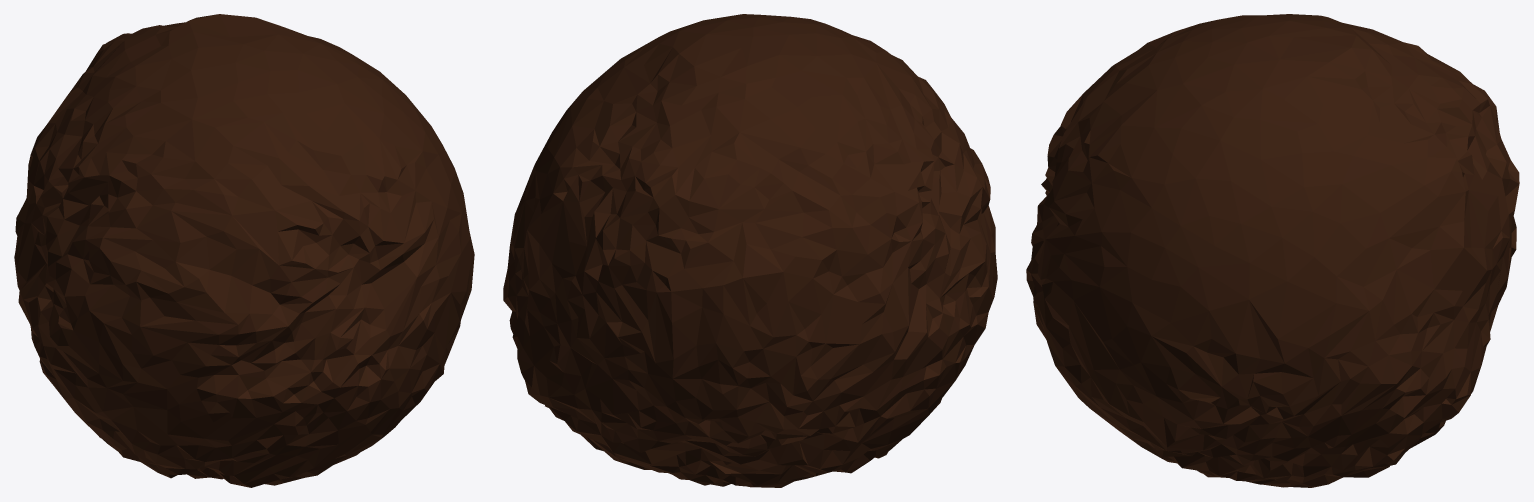
The model's file is Planet 4.FBX.
3 renders of one model, left to right at view 1: azimuth 30°, elevation 25°; view 2: azimuth 150°, elevation 25°; view 3: azimuth 270°, elevation 25°, orthographic. The views are drawn at different scales.
Visible parts, largest first — view 1: Planet 4; view 2: Planet 4; view 3: Planet 4.
Part boxes in pixels (bbox=[...]): Planet 4: bbox=[14, 14, 474, 487]; Planet 4: bbox=[503, 14, 997, 487]; Planet 4: bbox=[1026, 14, 1519, 487].
Bounding box in the file's own units: 221 × 220 × 230.
